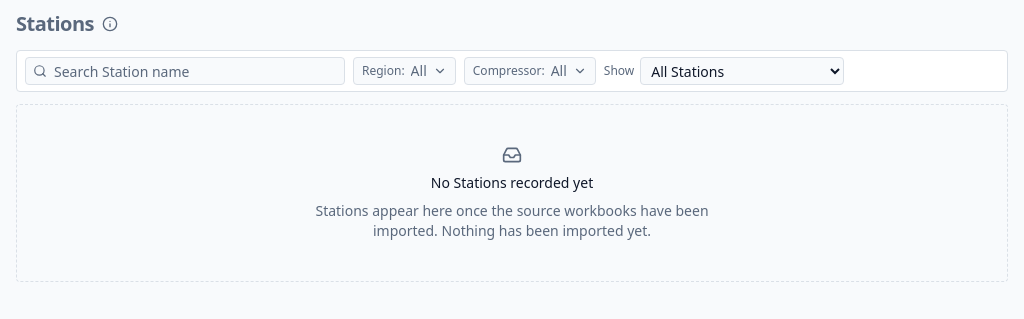
Test: Stations browser › distinguishes "no results for these filters" from "nothing exists"
Step 1. Type "zzzz" into the search field named "search stations" → (185, 71), box [25, 57, 345, 85]
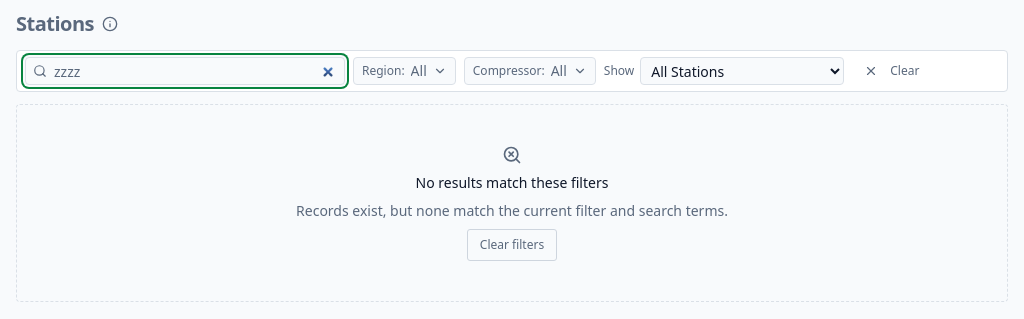
Expected: the text "No results match these filters" is shown, [416, 173, 608, 193]
Expected: the text "No Stations recorded yet" is gone
